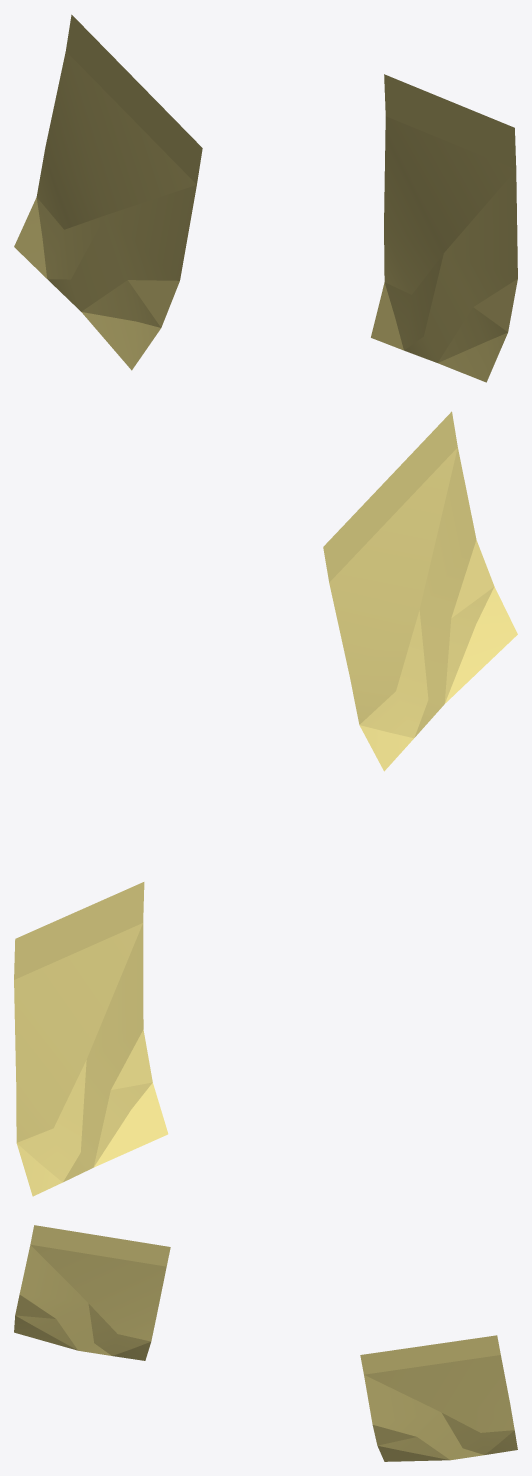
File: PostItNotes_1.fbx
3 views of the same model, one above another, from view 1: azimuth 30°, elevation 25°; view 2: azimuth 150°, elevation 25°; view 3: azimuth 270°, elevation 25° (orthographic). The views are drawn at different scales.
Visible parts, largest first — view 1: PostItNotes_1; view 2: PostItNotes_1; view 3: PostItNotes_1.
Part boxes in pixels (bbox=[...]): PostItNotes_1: bbox=[14, 14, 517, 382]; PostItNotes_1: bbox=[14, 411, 517, 1196]; PostItNotes_1: bbox=[14, 1225, 517, 1461].
Size of the model in its own units: 2.23 by 21.3 by 39.08.
